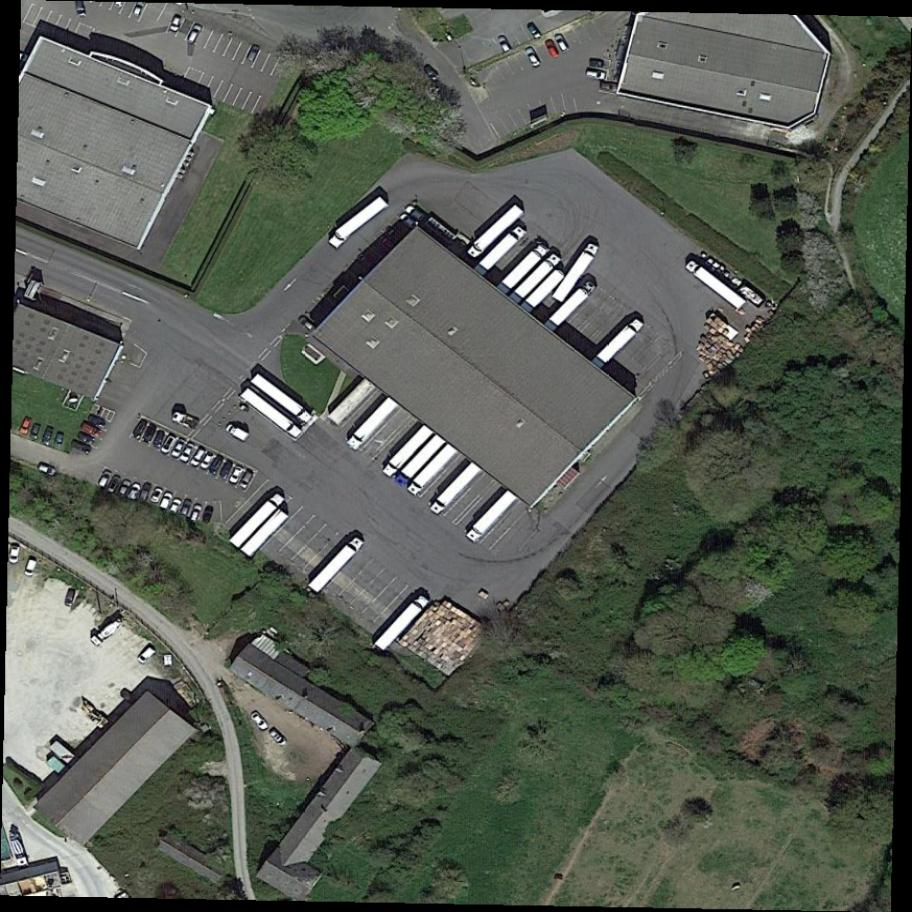large-vehicle: (308, 535, 366, 596), (326, 196, 389, 252), (240, 386, 304, 441), (374, 593, 430, 654), (251, 373, 314, 426), (466, 203, 523, 260), (230, 492, 285, 550), (685, 260, 747, 310), (381, 423, 435, 479), (543, 278, 597, 333), (473, 224, 527, 279), (406, 442, 459, 498), (465, 489, 518, 545), (553, 241, 600, 304), (591, 316, 645, 370), (429, 461, 481, 517), (346, 396, 398, 451), (510, 250, 561, 306), (497, 242, 549, 296), (395, 433, 446, 488)
small-vehicle: (89, 615, 126, 648), (170, 409, 201, 434), (225, 421, 252, 445), (135, 642, 160, 667), (249, 708, 272, 734), (207, 451, 228, 478), (16, 412, 37, 438), (403, 202, 426, 225), (158, 432, 179, 457), (169, 434, 189, 460), (236, 466, 256, 492), (79, 419, 103, 440), (523, 44, 543, 69), (198, 448, 218, 473), (34, 459, 59, 479), (268, 725, 289, 748), (130, 417, 150, 441), (188, 444, 208, 468), (177, 439, 196, 464), (356, 250, 377, 272), (186, 22, 205, 46), (69, 437, 93, 456), (95, 468, 114, 492), (74, 428, 96, 448), (399, 211, 420, 231), (217, 459, 236, 481), (141, 422, 159, 445), (525, 18, 543, 41), (544, 37, 561, 61), (229, 462, 246, 486), (298, 315, 318, 335), (423, 63, 442, 84), (496, 32, 514, 54), (554, 32, 571, 55), (138, 481, 155, 504), (85, 413, 109, 429), (150, 429, 168, 450), (22, 556, 40, 577), (583, 67, 608, 82), (245, 43, 262, 65), (168, 13, 185, 34), (126, 482, 143, 503), (116, 479, 133, 500), (40, 424, 56, 446), (158, 490, 174, 512), (189, 503, 204, 525), (387, 227, 404, 246), (63, 585, 77, 608), (148, 487, 164, 507), (28, 420, 43, 441), (107, 474, 122, 495), (379, 234, 397, 251), (168, 497, 183, 517), (201, 505, 215, 525), (52, 430, 66, 449), (180, 498, 193, 518), (600, 82, 621, 92), (588, 58, 605, 68)
